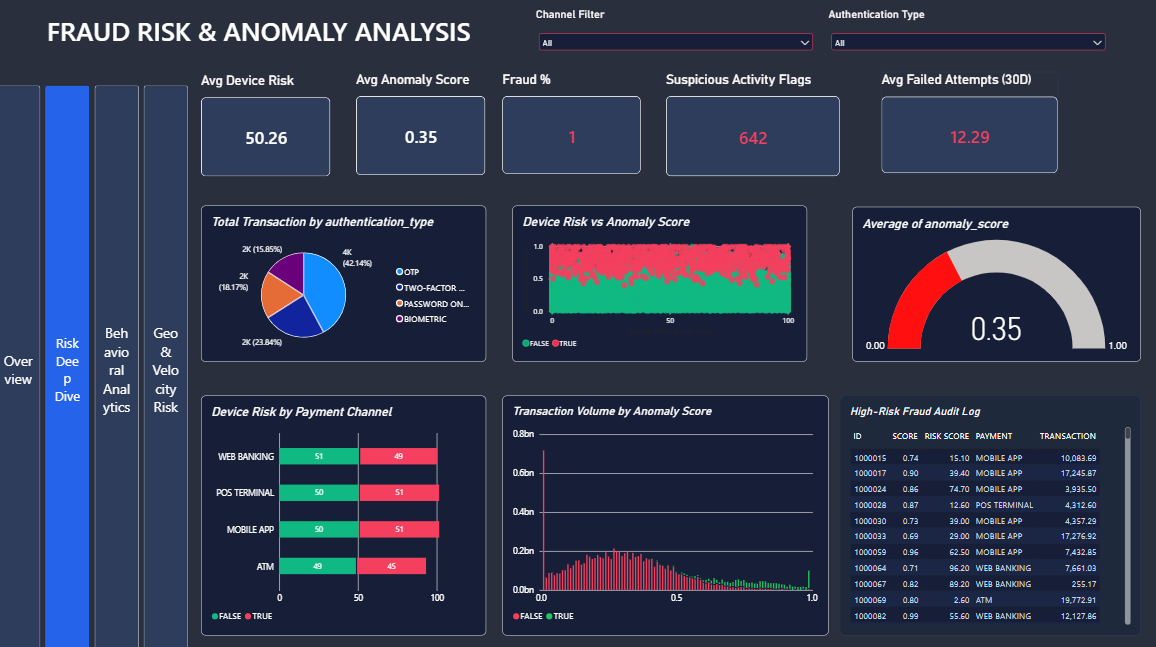

The page's visual inventory and layout, read from the dashboard file:
{"tool":"powerbi","page":{"name":"Risk Deep Dive","canvas":[1920,1080],"ordinal":1},"visuals":[{"type":"cardVisual","title":"Avg Failed Attempts (30D)","fields":{"Data":["Avg(fact.failed_transactions_last_30d)"]},"box":[1457.3,121.4,292.3,168.8],"z":0},{"type":"slicer","title":"Channel Filter","fields":{"Values":["fact.payment_channel"]},"box":[889.2,16.5,461.1,129.7],"z":1000},{"type":"cardVisual","title":"Suspicious Activity Flags","fields":{"Data":["Sum(fact.suspicious_ip_flag)"]},"box":[1103.3,121.4,286.1,172.9],"z":2000},{"type":"slicer","title":"Authentication Type","fields":{"Values":["fact.authentication_type"]},"box":[1370.8,16.5,461.1,94.7],"z":3000},{"type":"cardVisual","title":"Avg Anomaly Score","fields":{"Data":["Avg(fact.anomaly_score)"]},"box":[592.8,121.4,213.3,170.6],"z":4000},{"type":"cardVisual","fields":{"Data":["fact.page 2"]},"box":[67.9,10.3,738.9,86.4],"z":5000},{"type":"cardVisual","title":"Avg Device Risk","fields":{"Data":["Avg(fact.device_risk_score)"]},"box":[337.6,123.5,213.3,170.6],"z":6000},{"type":"pageNavigator","box":[0,144.1,319,936.5],"z":7000},{"type":"barChart","title":"Device Risk by Payment Channel","fields":{"Category":["fact.payment_channel"],"Y":["Avg(fact.device_risk_score)"],"Series":["fact.fraud_flag"]},"box":[337.6,654.5,469.3,395.2],"z":8000},{"type":"columnChart","title":"Transaction Volume by Anomaly Score","fields":{"Category":["fact.anomaly_score"],"Y":["Sum(fact.transaction_id)"],"Series":["fact.fraud_flag"]},"box":[833.6,654.5,537.2,395.2],"z":9000},{"type":"tableEx","title":"High-Risk Fraud Audit Log","fields":{"Values":["fact.transaction_id","fact.anomaly_score","fact.device_risk_score","fact.payment_channel","fact.transaction_amount"]},"box":[1389.4,654.5,496.1,395.2],"z":10000},{"type":"pieChart","fields":{"Y":["fact.Total Transaction"],"Category":["fact.authentication_type"]},"box":[337.6,341.7,469.3,257.3],"z":11000},{"type":"cardVisual","title":"Fraud %","fields":{"Data":["fact.fraud Rate %"]},"box":[833.6,121.4,228.5,168.8],"z":12000},{"type":"scatterChart","title":"Device Risk vs Anomaly Score   ","fields":{"X":["Avg(fact.device_risk_score)"],"Y":["Avg(fact.anomaly_score)"],"Series":["fact.fraud_flag"],"Category":["fact.transaction_id"]},"box":[850.1,341.7,485.8,257.3],"z":13000},{"type":"gauge","fields":{"Y":["Avg(fact.anomaly_score)"]},"box":[1410,343.7,475.5,255.2],"z":14000}]}

Visuals, with their boxes on the page's 1920x1080 design canvas (x1, y1, x2, y2). These are canvas units, not pixel positions in the 1156x647 screenshot, which may show the page scaled, cropped or inside an application window:
"Avg Failed Attempts (30D)" cardVisual: l=1457, t=121, r=1750, b=290
"Channel Filter" slicer: l=889, t=16, r=1350, b=146
"Suspicious Activity Flags" cardVisual: l=1103, t=121, r=1389, b=294
"Authentication Type" slicer: l=1371, t=16, r=1832, b=111
"Avg Anomaly Score" cardVisual: l=593, t=121, r=806, b=292
cardVisual - fact.page 2: l=68, t=10, r=807, b=97
"Avg Device Risk" cardVisual: l=338, t=124, r=551, b=294
pageNavigator: l=0, t=144, r=319, b=1081
"Device Risk by Payment Channel" barChart: l=338, t=654, r=807, b=1050
"Transaction Volume by Anomaly Score" columnChart: l=834, t=654, r=1371, b=1050
"High-Risk Fraud Audit Log" tableEx: l=1389, t=654, r=1886, b=1050
pieChart - fact.Total Transaction x fact.authentication_type: l=338, t=342, r=807, b=599
"Fraud %" cardVisual: l=834, t=121, r=1062, b=290
"Device Risk vs Anomaly Score   " scatterChart: l=850, t=342, r=1336, b=599
gauge - Avg(fact.anomaly_score): l=1410, t=344, r=1886, b=599
